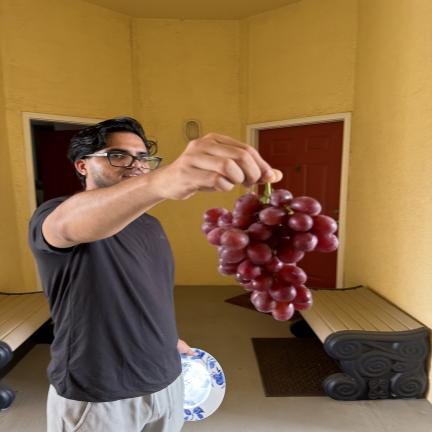grape_cluster: (201, 184, 339, 321)
